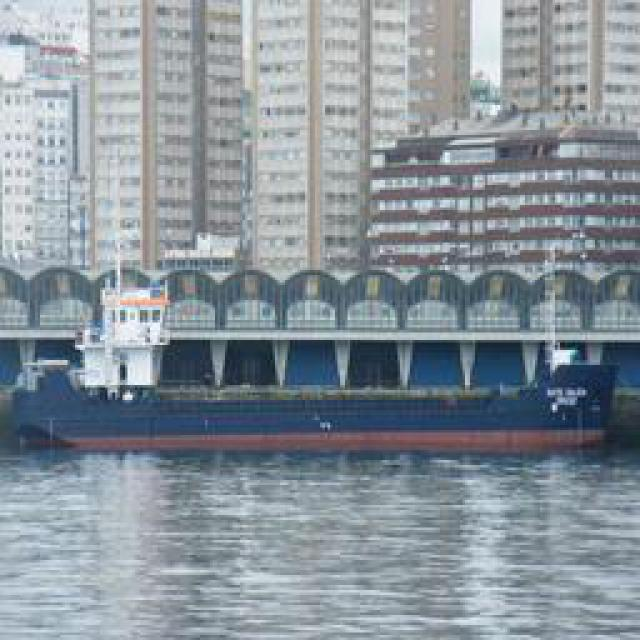Ship: (6, 320, 631, 450)
